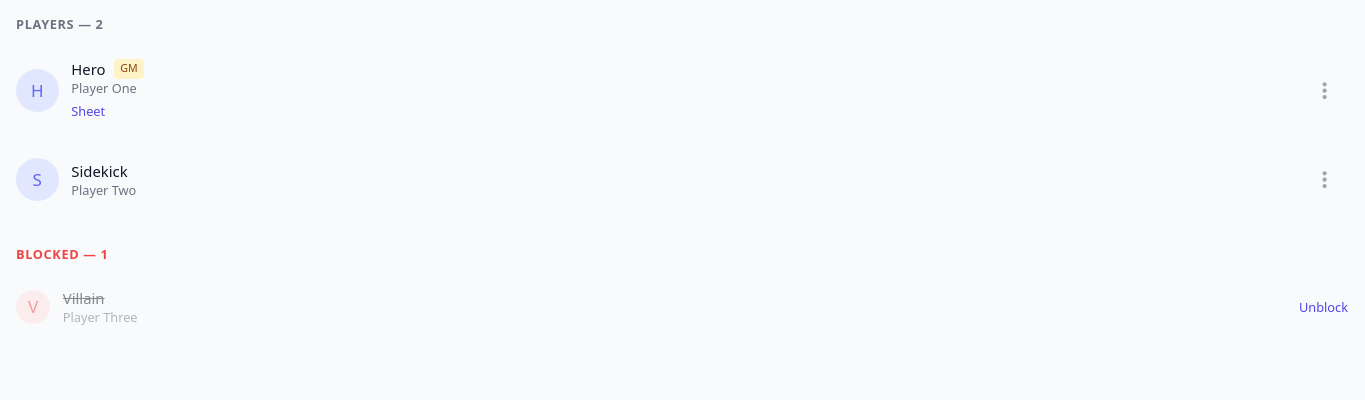
MemberList › handles unblock member error
Click the button "Unblock". click: [1324, 307]
box: [1299,299,1348,316]
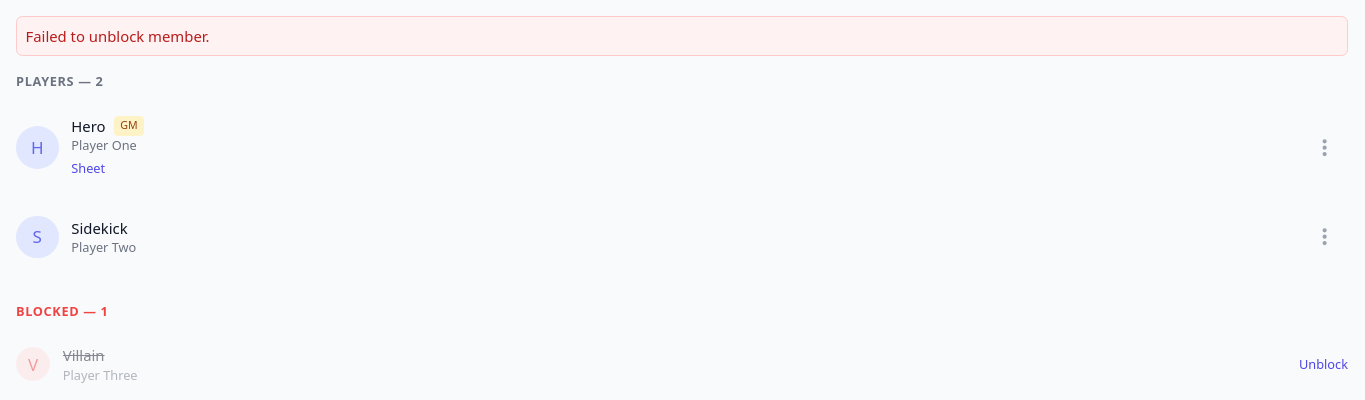
Check: the text "Failed to unblock member." is shown, box [16,16,1348,56]
